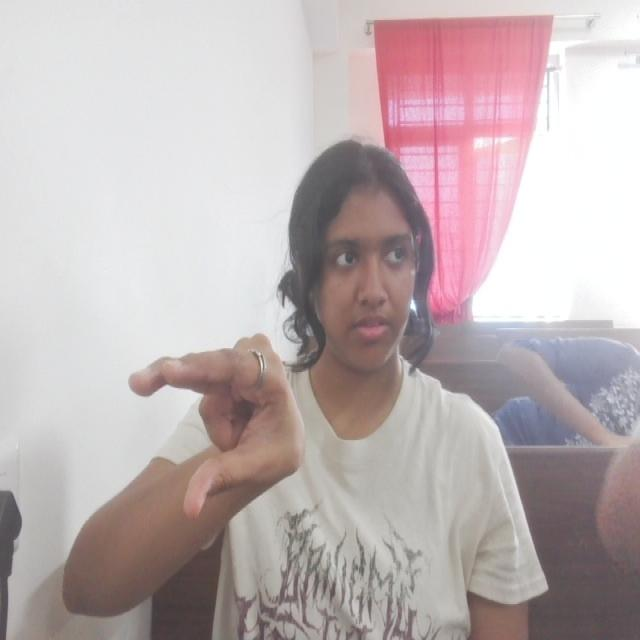no: (122, 326, 311, 522)
